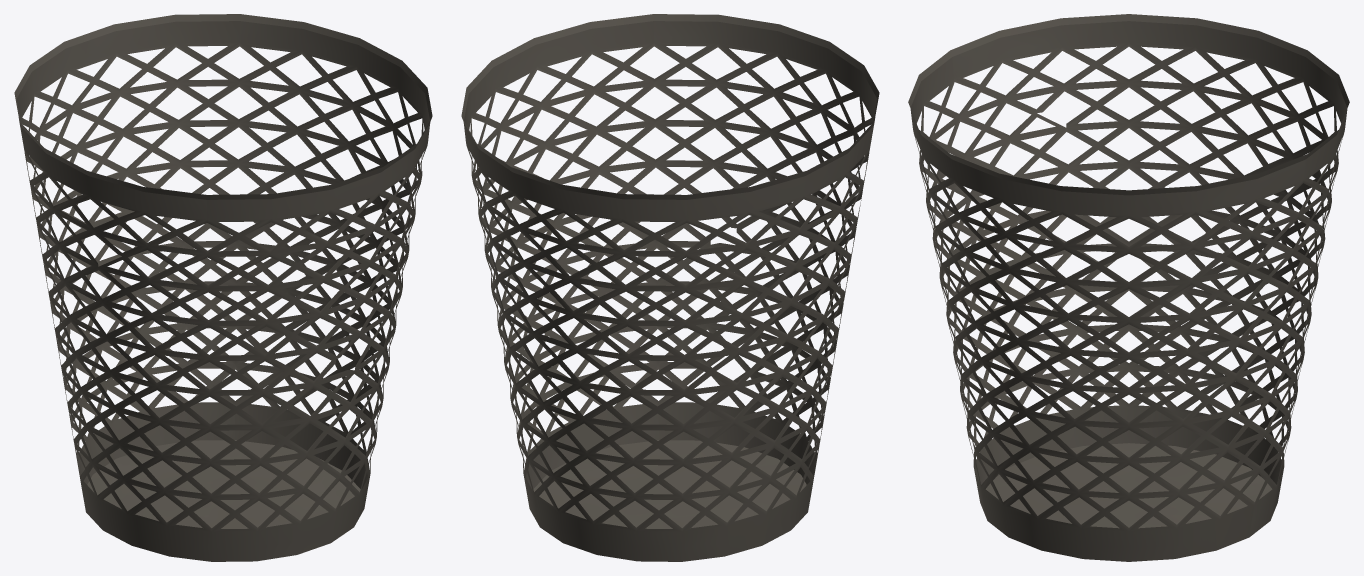
Rendered from Dustbin.fbx.
The picture shows the model from 3 angles, left to right: view 1: azimuth 30°, elevation 25°; view 2: azimuth 150°, elevation 25°; view 3: azimuth 270°, elevation 25°; orthographic projection.
Parts seen in each view (by area): view 1: bin; view 2: bin; view 3: bin.
Part boxes in pixels (x1,y1,x2,y2): bin: [14, 14, 432, 561]; bin: [461, 14, 879, 561]; bin: [908, 14, 1349, 561].
Size of the model in its own units: 18.06 by 19.11 by 19.11.
Materials: 1 (1 with a texture image).
